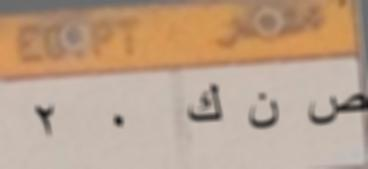0: (97, 104, 138, 142)
2: (22, 94, 72, 142)
kaaf: (176, 80, 230, 127)
noon: (242, 85, 290, 140)
saad: (304, 82, 367, 130)
